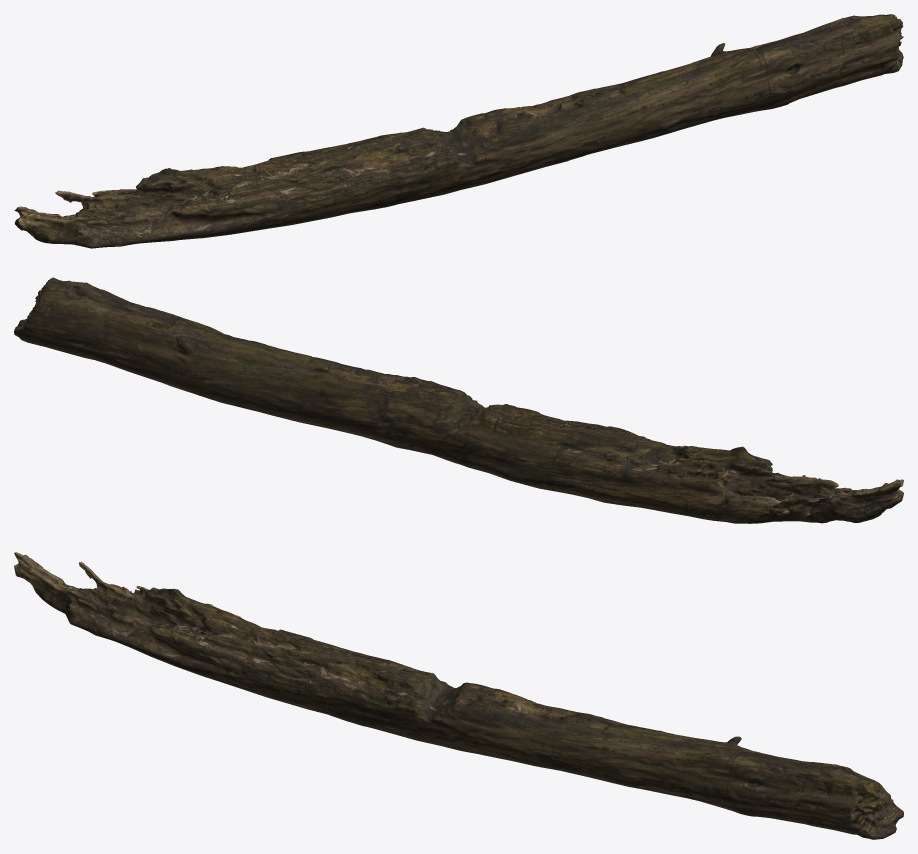
File: dead_tree_trunk.glb
3 renders of one model, top to bottom at view 1: azimuth 30°, elevation 25°; view 2: azimuth 150°, elevation 25°; view 3: azimuth 330°, elevation 25°, orthographic.
Parts seen in each view (by area): view 1: dead_tree_trunk; view 2: dead_tree_trunk; view 3: dead_tree_trunk.
Boxes of the visible parts, x1,y1,x2,y2 form: dead_tree_trunk: [14, 14, 903, 248]; dead_tree_trunk: [14, 277, 903, 523]; dead_tree_trunk: [14, 552, 903, 839].
Size of the model in its own units: 3.05 by 0.2904 by 0.2769.
1 material, 1 textured.
